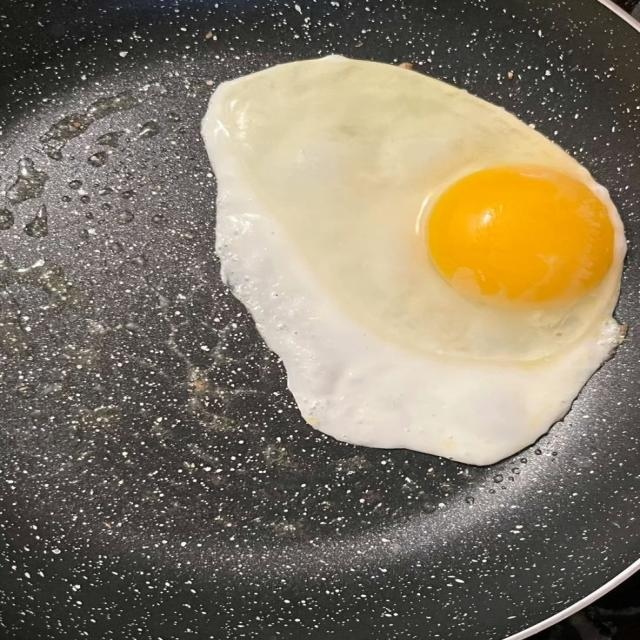fryed egg: (203, 57, 625, 464)
